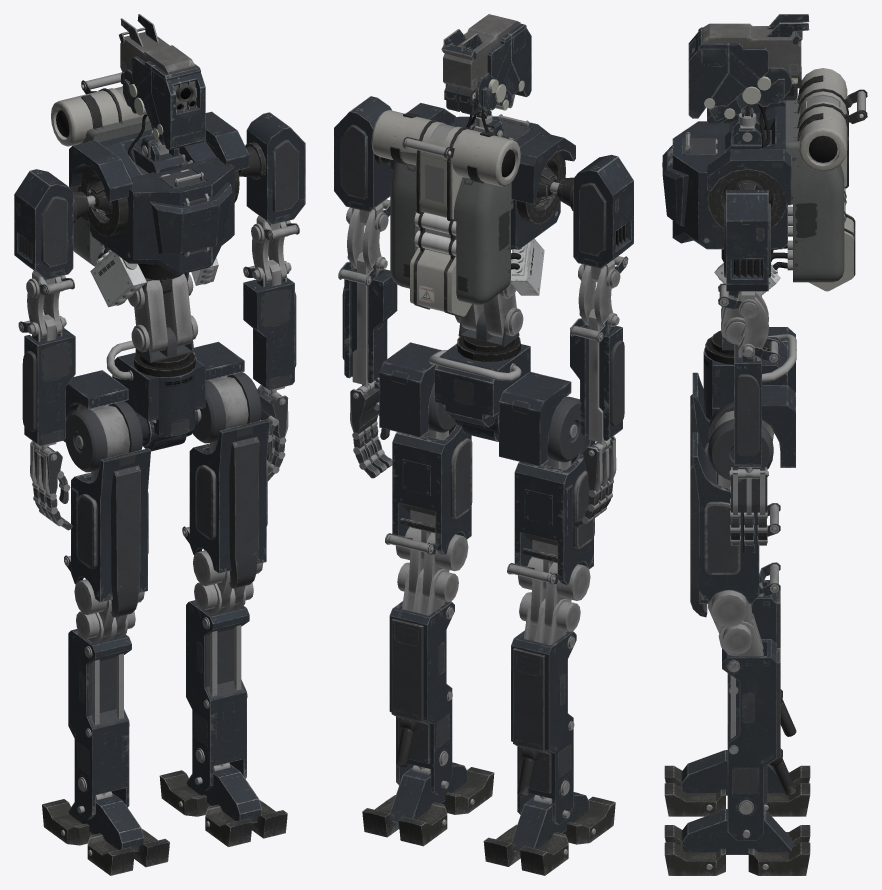
Rendered from Robot.fbx.
3 views of the same model, side by side, from view 1: azimuth 30°, elevation 25°; view 2: azimuth 150°, elevation 25°; view 3: azimuth 270°, elevation 25° (orthographic). The views are drawn at different scales.
Visible parts, largest first — view 1: Body1; view 2: Body1; view 3: Body1.
Boxes of the visible parts, x1,y1,x2,y2 form: Body1: (14,14,305,875); Body1: (334,14,633,875); Body1: (662,14,867,875).
Bounding box in the file's own units: 35.88 × 99.94 × 22.84.
